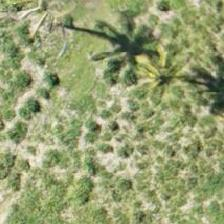coconut_tree: (104, 33, 194, 123)
